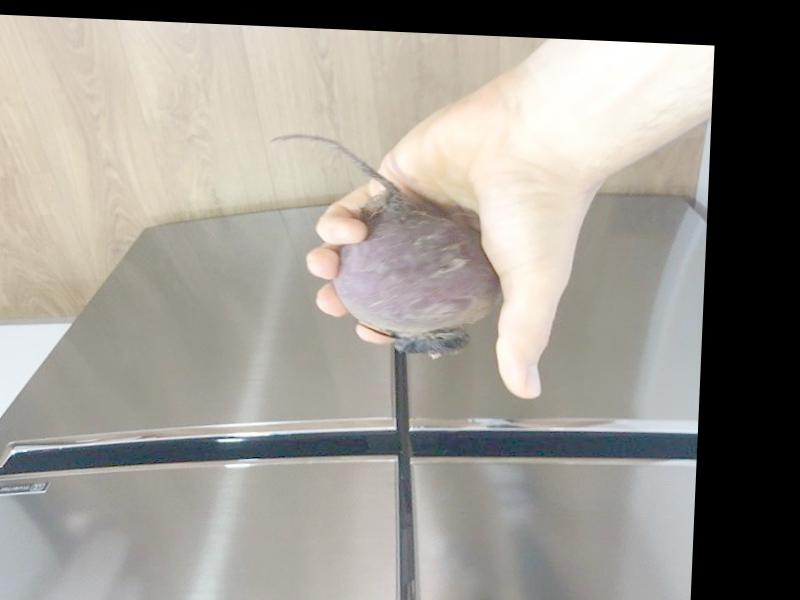Beet: (260, 134, 507, 360)
